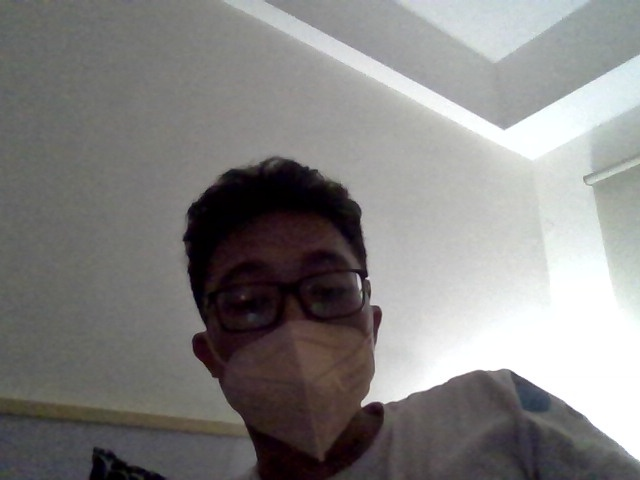Drowsy: (153, 162, 418, 463)
